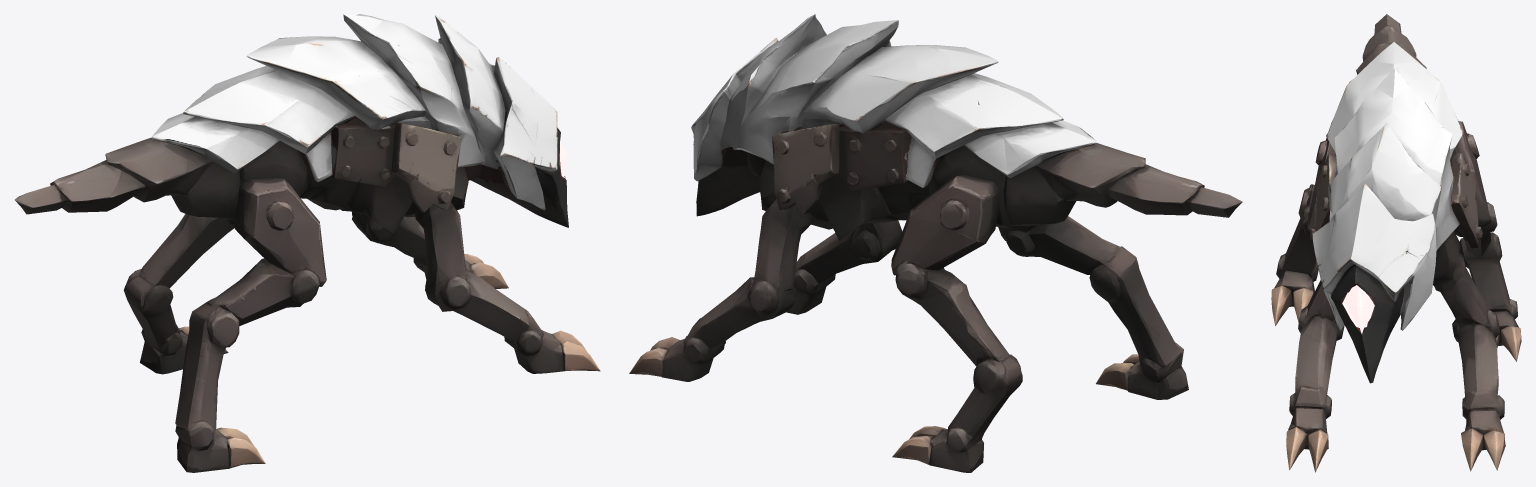
The model's file is scrap_hound.glb.
3 renders of one model, left to right at view 1: azimuth 30°, elevation 25°; view 2: azimuth 150°, elevation 25°; view 3: azimuth 270°, elevation 25°, orthographic. The views are drawn at different scales.
Visible parts, largest first — view 1: body_f, body_r, leg_hr_l, head, leg_hl_l, leg_fr_l, leg_fr_u, tail, leg_hr_u, leg_fl_l; view 2: body_f, body_r, leg_hr_l, leg_hl_l, head, leg_fl_l, leg_fl_u, tail, leg_hl_u, leg_fr_l, leg_fr_u; view 3: body_f, head, leg_fr_l, leg_fl_l, leg_hl_l, leg_hr_l, body_r, leg_fl_u, tail, leg_fr_u, leg_hl_u, leg_hr_u.
Boxes of the visible parts, x1,y1,x2,y2 form: body_f: (268,14,523,234); body_r: (107,39,334,236); leg_hr_l: (175,251,326,472); head: (470,63,568,227); leg_hl_l: (123,214,234,374); leg_fr_l: (443,271,600,373); leg_fr_u: (383,193,475,311); tail: (14,151,139,214); leg_hr_u: (234,193,326,280); leg_fl_l: (357,216,508,288); body_f: (730,14,969,240); body_r: (908,48,1144,240); leg_hr_l: (1001,216,1188,399); leg_hl_l: (891,266,1022,472); head: (691,51,762,216); leg_fl_l: (629,277,787,381); leg_fl_u: (749,198,846,318); tail: (1110,155,1242,217); leg_hl_u: (891,211,997,293); leg_fr_l: (786,231,877,314); leg_fr_u: (851,220,902,261); body_f: (1310,64,1482,285); head: (1312,191,1450,383); leg_fr_l: (1286,318,1343,472); leg_fl_l: (1453,321,1505,471); leg_hl_l: (1455,218,1521,361); leg_hr_l: (1271,184,1318,325); body_r: (1317,42,1479,174); leg_fl_u: (1434,256,1499,333); tail: (1362,14,1416,61); leg_fr_u: (1298,280,1344,330); leg_hl_u: (1454,157,1496,238); leg_hr_u: (1308,152,1325,230).
Bounding box in the file's own units: 1.1 × 0.7 × 0.4946.
3 materials, 3 textured.
